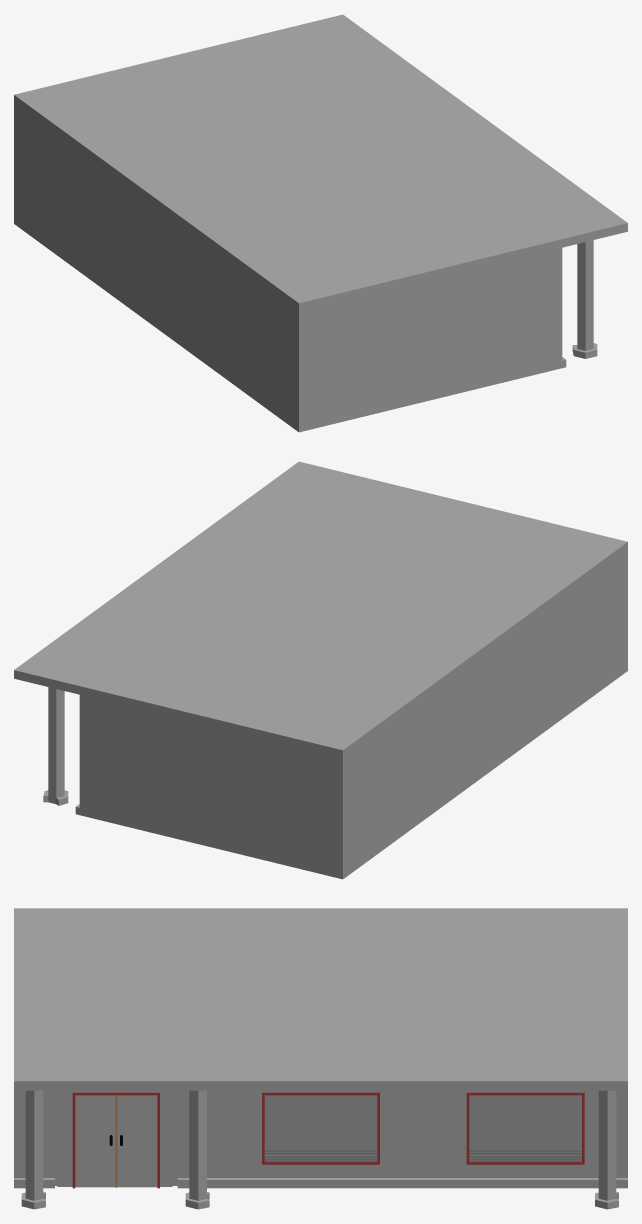
The model's file is Building_23.fbx.
3 views of the same model, one above another, from view 1: azimuth 30°, elevation 25°; view 2: azimuth 150°, elevation 25°; view 3: azimuth 270°, elevation 25° (orthographic). The views are drawn at different scales.
Visible parts, largest first — view 1: pCube33; view 2: pCube33; view 3: pCube33.
Boxes of the visible parts, x1=… form: pCube33: x1=14, y1=14, x2=627, y2=432; pCube33: x1=14, y1=461, x2=627, y2=879; pCube33: x1=14, y1=908, x2=627, y2=1209.
Bounding box in the file's own units: 10 × 3.75 × 15.
